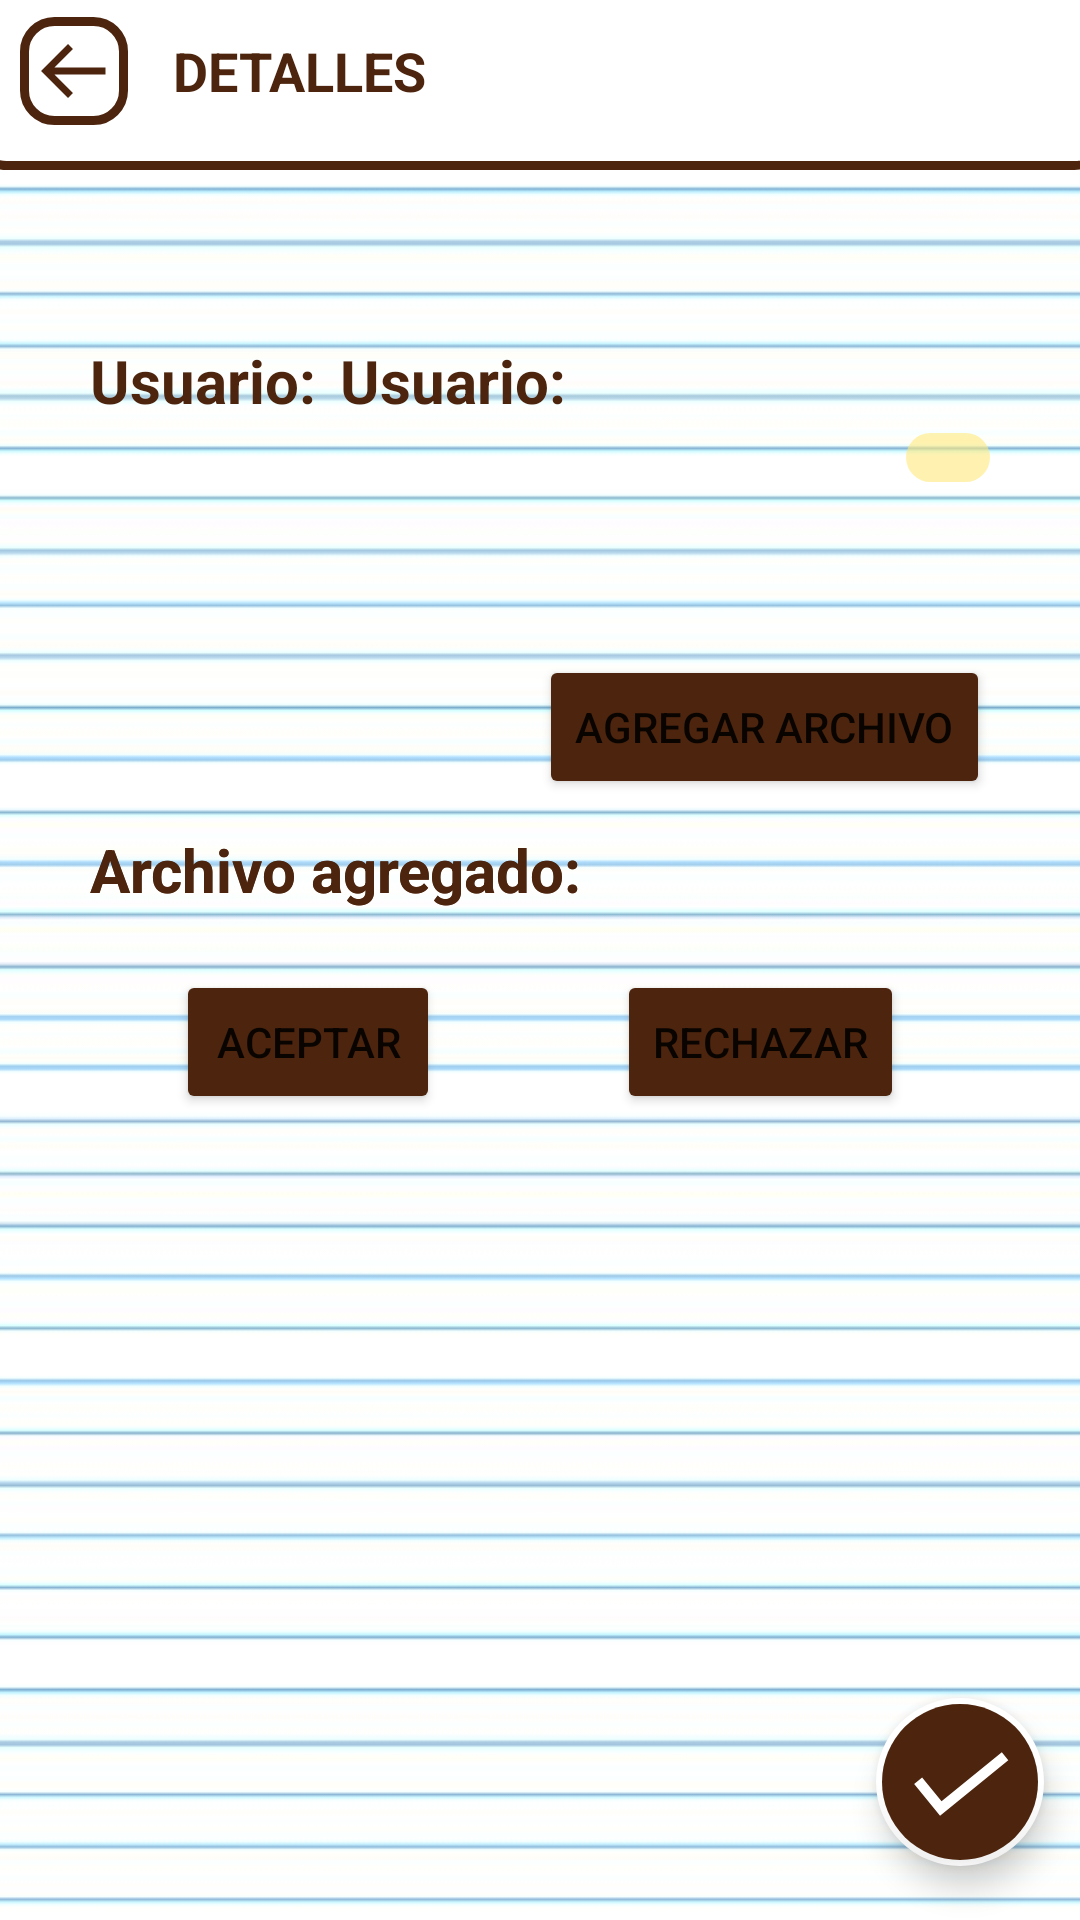

Point at icon controls on the screen. Image size 1080*1920, points as point (x, y).
arrow back brown: point (74, 71)
done: point (979, 1782)
